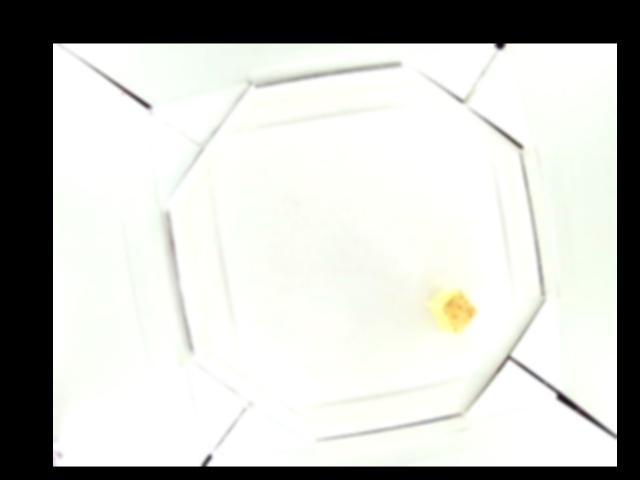Potato: (428, 286, 475, 332)
